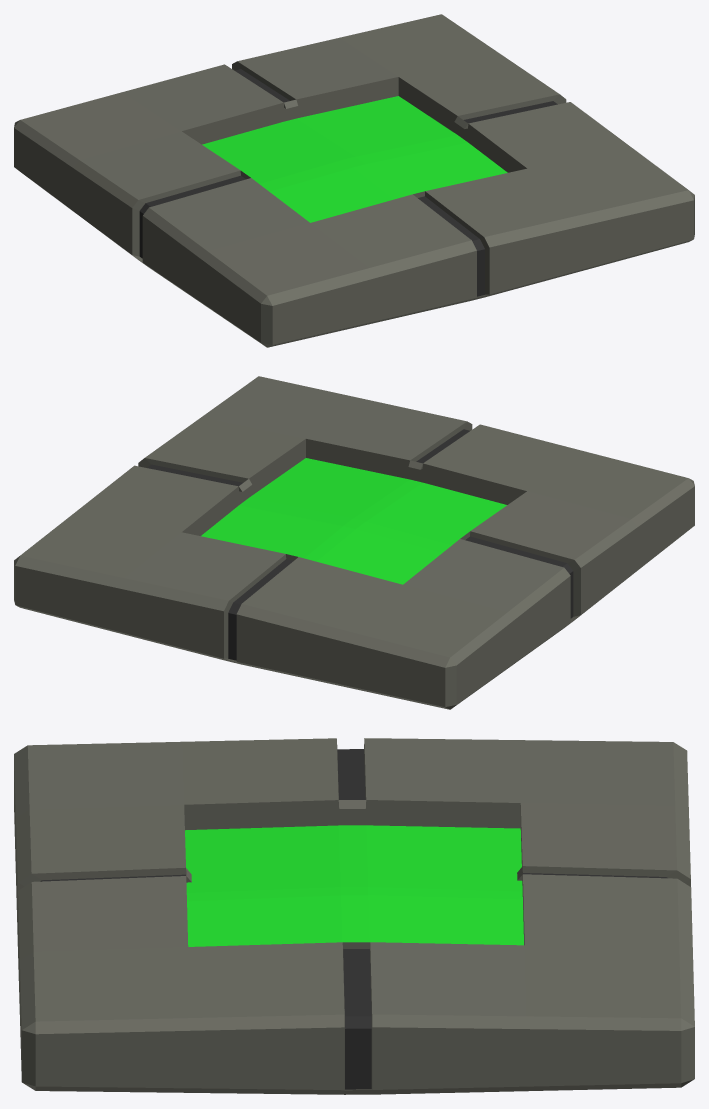
File: maceta.glb
The picture shows the model from 3 angles, top to bottom: view 1: azimuth 30°, elevation 25°; view 2: azimuth 150°, elevation 25°; view 3: azimuth 270°, elevation 25°; orthographic projection. The views are drawn at different scales.
Visible parts, largest first — view 1: macetas; view 2: macetas; view 3: macetas.
Part boxes in pixels (bbox=[...]): macetas: bbox=[14, 14, 694, 347]; macetas: bbox=[14, 376, 694, 709]; macetas: bbox=[14, 738, 694, 1094].
Bounding box in the file's own units: 7.49 × 1.17 × 7.49.
